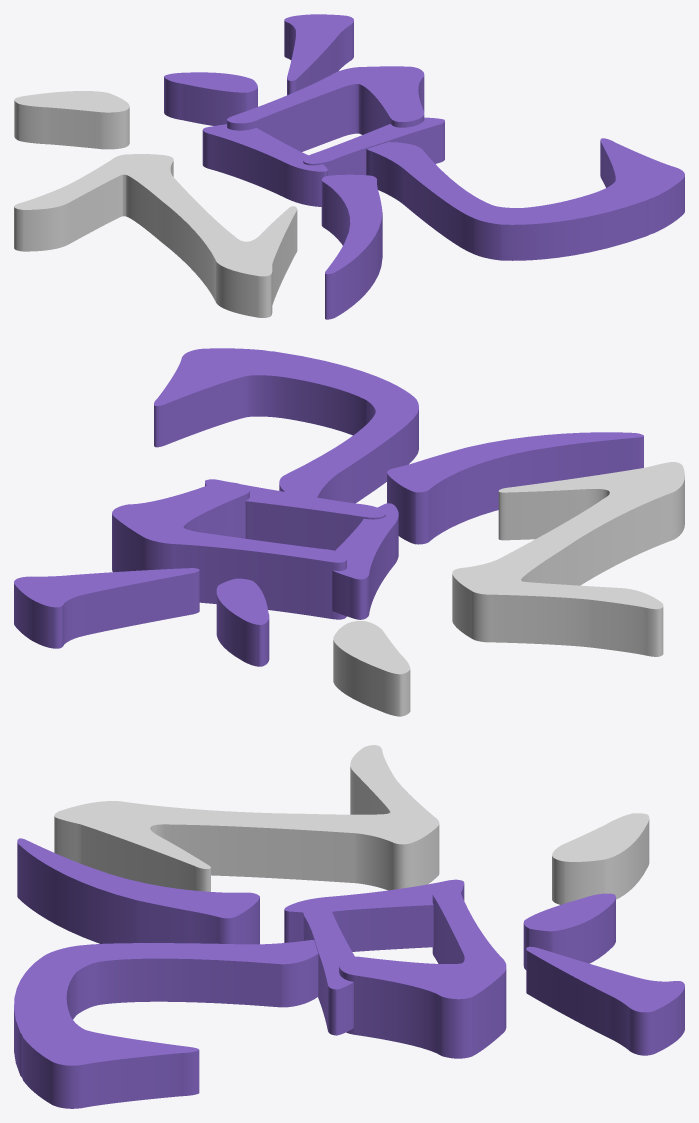
Rendered from hanzi227.fbx.
The picture shows the model from 3 angles, top to bottom: view 1: azimuth 30°, elevation 25°; view 2: azimuth 150°, elevation 25°; view 3: azimuth 270°, elevation 25°; orthographic projection. The views are drawn at different scales.
Parts seen in each view (by area): view 1: Curve.008, Curve.001, Curve.005, Curve.007, Curve, Curve.004, Curve.003, Curve.002, Curve.006; view 2: Curve.001, Curve.008, Curve.005, Curve.007, Curve.003, Curve.006, Curve, Curve.004, Curve.002; view 3: Curve.008, Curve.001, Curve.005, Curve.007, Curve.003, Curve.004, Curve, Curve.002, Curve.006.
Boxes of the visible parts, x1=… form: Curve.008: x1=366, y1=138, x2=684, y2=260; Curve.001: x1=14, y1=154, x2=297, y2=317; Curve.005: x1=227, y1=66, x2=424, y2=151; Curve.007: x1=321, y1=174, x2=382, y2=319; Curve: x1=14, y1=91, x2=129, y2=149; Curve.004: x1=202, y1=124, x2=327, y2=206; Curve.003: x1=284, y1=14, x2=353, y2=95; Curve.002: x1=164, y1=72, x2=257, y2=125; Curve.006: x1=303, y1=117, x2=444, y2=175; Curve.001: x1=452, y1=462, x2=684, y2=656; Curve.008: x1=154, y1=348, x2=418, y2=503; Curve.005: x1=112, y1=482, x2=346, y2=619; Curve.007: x1=387, y1=432, x2=643, y2=544; Curve.003: x1=14, y1=568, x2=199, y2=648; Curve.006: x1=205, y1=479, x2=385, y2=550; Curve: x1=333, y1=621, x2=410, y2=716; Curve.004: x1=332, y1=503, x2=398, y2=619; Curve.002: x1=216, y1=578, x2=269, y2=666; Curve.008: x1=14, y1=940, x2=318, y2=1108; Curve.001: x1=54, y1=745, x2=439, y2=891; Curve.005: x1=339, y1=883, x2=506, y2=1058; Curve.007: x1=17, y1=838, x2=259, y2=944; Curve.003: x1=526, y1=946, x2=684, y2=1055; Curve.004: x1=284, y1=879, x2=464, y2=951; Curve: x1=552, y1=813, x2=649, y2=904; Curve.002: x1=523, y1=893, x2=615, y2=969; Curve.006: x1=303, y1=902, x2=354, y2=1035.
Size of the model in its own units: 26.09 by 23.33 by 2.28.
